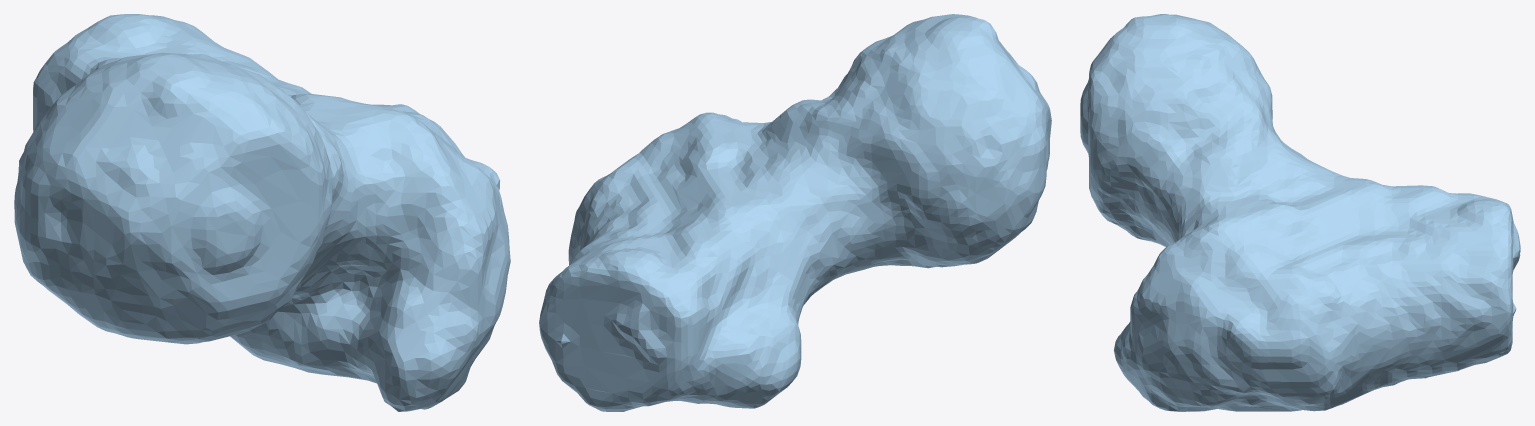
3 views of the same model, side by side, from view 1: azimuth 30°, elevation 25°; view 2: azimuth 150°, elevation 25°; view 3: azimuth 270°, elevation 25° (orthographic). The views are drawn at different scales.
Visible parts, largest first — view 1: world; view 2: world; view 3: world.
Part boxes in pixels (x1,y1,x2,y2): world: (14,14,510,411); world: (539,14,1051,411); world: (1080,14,1520,411).
Bounding box in the file's own units: 0.8012 × 0.6129 × 0.831.
